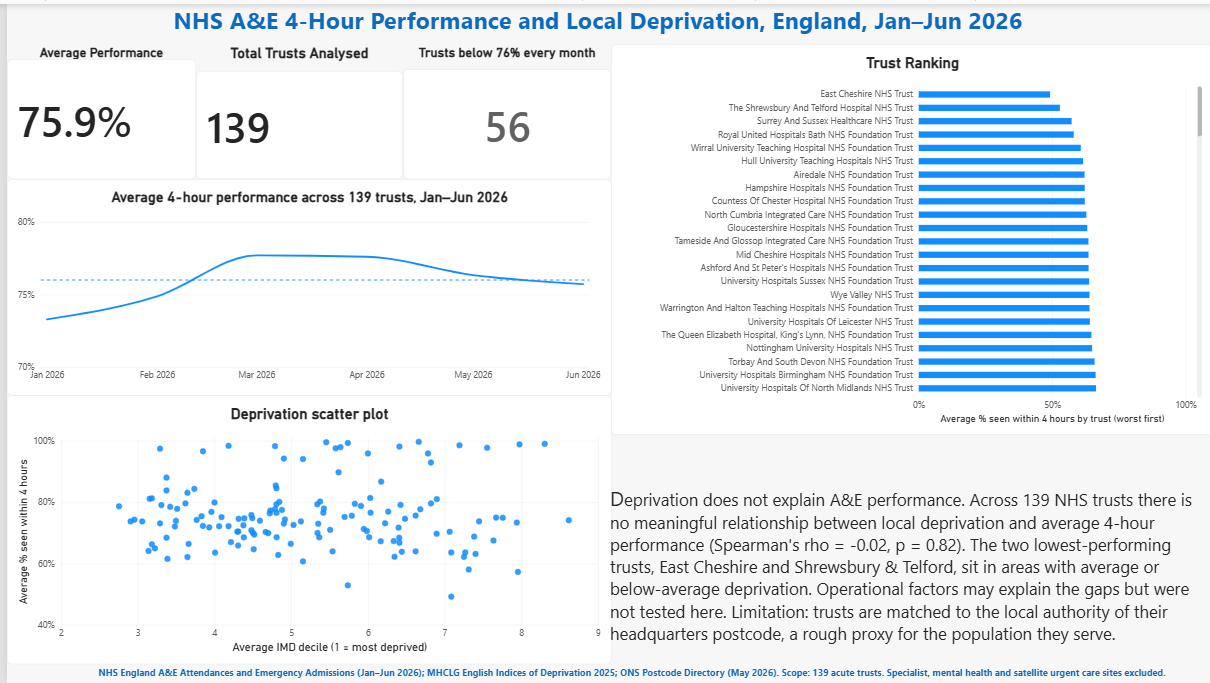

Layout of this report page (visuals, bound fields, positions):
{"tool":"powerbi","page":{"name":"Page 1","canvas":[1920,1080],"ordinal":0},"visuals":[{"type":"scatterChart","title":"Deprivation scatter plot","fields":{"Category":["ae_deprivation_monthly.Name"],"X":["Avg(ae_deprivation_monthly.avg_imd_decile)"],"Y":["Avg(ae_deprivation_monthly.Percentage in 4 hours or less (all))"]},"box":[0,622.7,961.5,427.1],"z":0},{"type":"lineChart","title":"Average 4-hour performance across 139 trusts, Jan–Jun 2026","fields":{"Category":["ae_deprivation_monthly.Month"],"Y":["Avg(ae_deprivation_monthly.Percentage in 4 hours or less (all))"]},"box":[0,279.2,961.5,343.6],"z":1000},{"type":"clusteredBarChart","title":"Trust Ranking","fields":{"Category":["ae_deprivation_monthly.Name"],"Y":["Avg(ae_deprivation_monthly.Percentage in 4 hours or less (all))"]},"box":[961.5,64.4,956.8,620.3],"z":2000},{"type":"textbox","box":[959.1,763.5,956.8,257.7],"z":3000},{"type":"cardVisual","title":"Average Performance","fields":{"Data":["Avg(ae_deprivation_monthly.Percentage in 4 hours or less (all))"]},"box":[0,64.4,300.6,214.7],"z":4000},{"type":"cardVisual","title":"Total Trusts Analysed","fields":{"Data":["Count(ae_deprivation_monthly.Code)"]},"box":[300.6,64.4,329.3,214.7],"z":5000},{"type":"cardVisual","title":"Trusts below 76% every month","fields":{"Data":["Count(ae_deprivation_monthly.Code)"]},"box":[629.9,64.4,331.6,214.7],"z":6000},{"type":"textbox","box":[145.5,1052.2,1734.6,28.6],"z":7000},{"type":"textbox","box":[264.8,0,1369.5,116.9],"z":8000}]}

Visuals, with their boxes in screenshot pixels (x1, y1, x2, y2), scaled from the page's 1920x1080 canvas onto the 1210x683 screenshot:
"Deprivation scatter plot" scatterChart: {"left": 0, "top": 394, "right": 606, "bottom": 664}
"Average 4-hour performance across 139 trusts, Jan–Jun 2026" lineChart: {"left": 0, "top": 177, "right": 606, "bottom": 394}
"Trust Ranking" clusteredBarChart: {"left": 606, "top": 41, "right": 1209, "bottom": 433}
textbox: {"left": 604, "top": 483, "right": 1207, "bottom": 646}
"Average Performance" cardVisual: {"left": 0, "top": 41, "right": 189, "bottom": 177}
"Total Trusts Analysed" cardVisual: {"left": 189, "top": 41, "right": 397, "bottom": 177}
"Trusts below 76% every month" cardVisual: {"left": 397, "top": 41, "right": 606, "bottom": 177}
textbox: {"left": 92, "top": 665, "right": 1185, "bottom": 682}
textbox: {"left": 167, "top": 0, "right": 1030, "bottom": 74}
